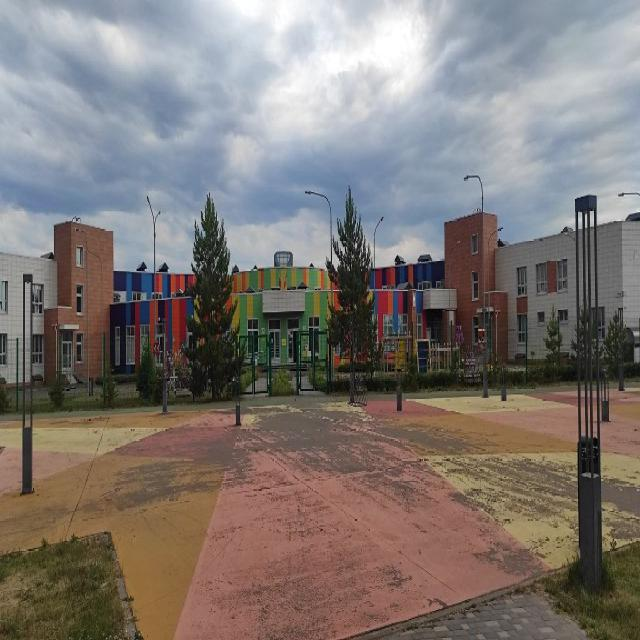Building: (0, 211, 640, 390)
